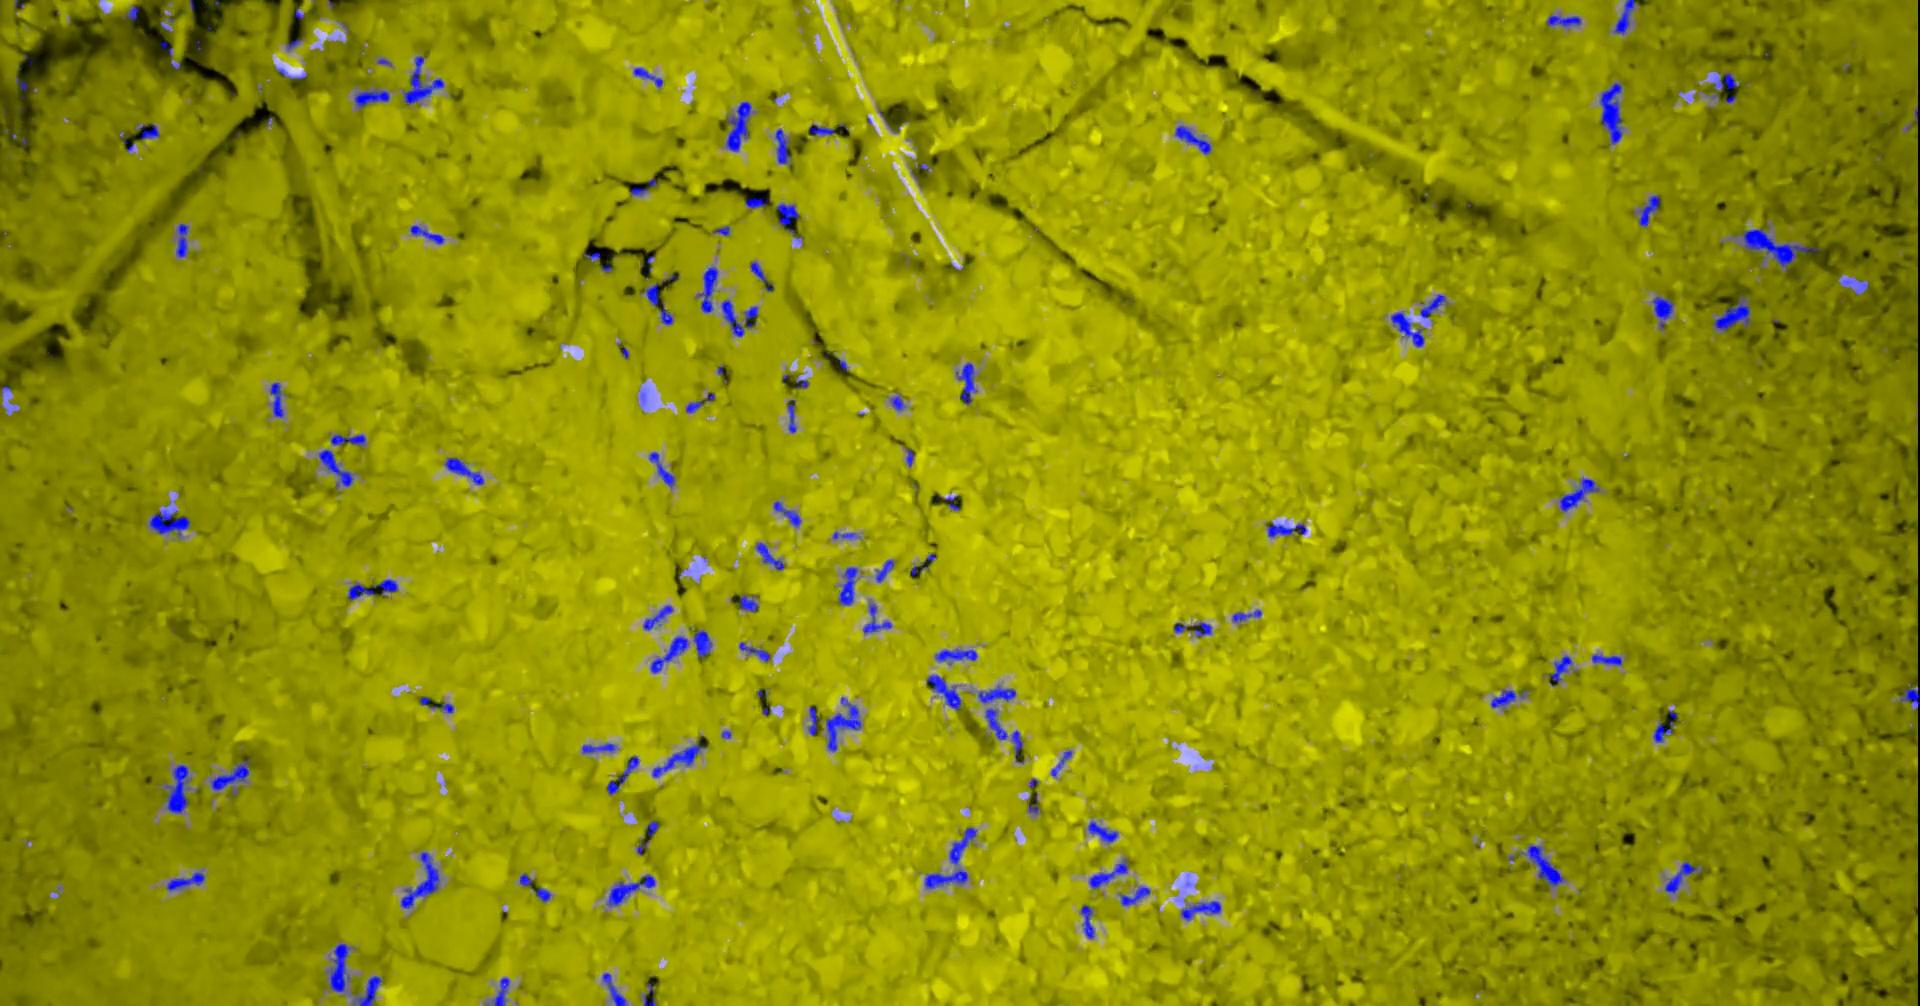ant: (1741, 227, 1818, 271), (400, 851, 439, 908), (651, 738, 706, 777), (985, 708, 1023, 763), (403, 55, 443, 104), (825, 697, 860, 751), (1521, 845, 1563, 887), (606, 874, 654, 906), (1599, 83, 1622, 144), (1713, 295, 1750, 332), (721, 298, 757, 337), (317, 448, 353, 486), (650, 636, 688, 672), (1559, 478, 1599, 511), (725, 102, 750, 151), (643, 282, 672, 324), (606, 756, 637, 794), (1663, 861, 1702, 893), (210, 760, 249, 790), (1088, 857, 1128, 888), (164, 763, 188, 813), (926, 674, 960, 709), (1390, 312, 1423, 347), (1175, 124, 1210, 154), (347, 579, 397, 600), (949, 827, 977, 864), (444, 457, 483, 484), (149, 511, 190, 535), (329, 942, 349, 991), (775, 203, 801, 238), (648, 452, 674, 486), (955, 362, 977, 404), (698, 265, 717, 312), (862, 603, 891, 633), (601, 972, 626, 1005), (924, 869, 968, 888), (354, 976, 382, 1005), (1652, 710, 1677, 742), (1613, 0, 1636, 34), (1180, 901, 1220, 920), (636, 821, 659, 854), (756, 542, 783, 569), (643, 605, 672, 630), (838, 567, 857, 605), (166, 871, 204, 890), (935, 648, 977, 664), (1638, 196, 1660, 227), (773, 500, 800, 526), (977, 685, 1015, 702), (750, 262, 773, 291), (1087, 821, 1117, 842), (410, 224, 444, 243), (1652, 296, 1672, 328), (1418, 293, 1445, 318), (1549, 655, 1571, 685), (354, 89, 389, 107), (738, 641, 770, 661), (159, 41, 180, 69), (488, 977, 509, 1005), (1266, 522, 1305, 537), (910, 553, 936, 575), (775, 128, 791, 163), (419, 696, 453, 713), (1119, 887, 1150, 904), (632, 67, 662, 86), (684, 392, 714, 412), (1050, 749, 1070, 776), (629, 177, 657, 196), (1173, 622, 1211, 636), (1079, 904, 1095, 937), (1898, 683, 1919, 708), (1490, 688, 1515, 708), (269, 382, 283, 417), (693, 630, 711, 657), (1712, 72, 1737, 89), (175, 224, 188, 257), (936, 493, 959, 511), (875, 559, 893, 582), (582, 742, 616, 753), (1230, 608, 1261, 621), (1545, 15, 1580, 25), (136, 123, 159, 138), (330, 434, 364, 445), (1591, 654, 1622, 666), (739, 594, 758, 611), (787, 399, 796, 432), (643, 982, 655, 1005), (744, 196, 768, 207), (121, 5, 138, 20), (808, 124, 834, 135), (532, 887, 550, 902), (15, 76, 27, 99), (808, 706, 817, 735), (890, 396, 903, 410), (519, 873, 532, 887), (832, 531, 855, 539), (905, 448, 914, 466)
